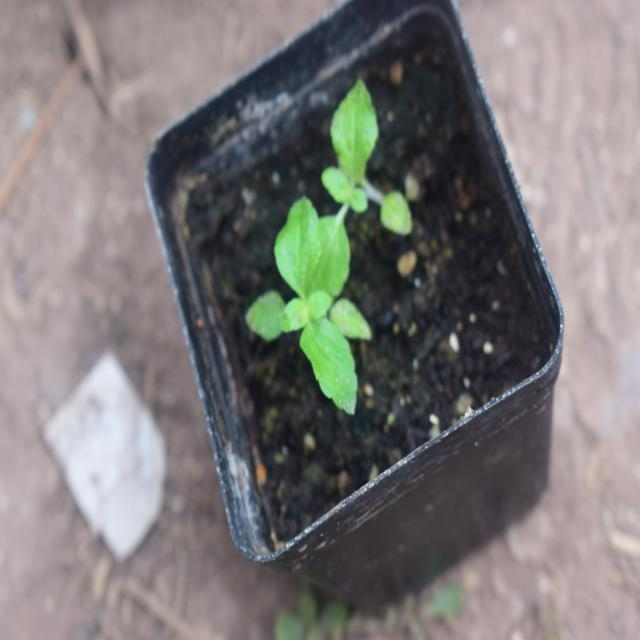billygoat_weed: (237, 186, 382, 422)
